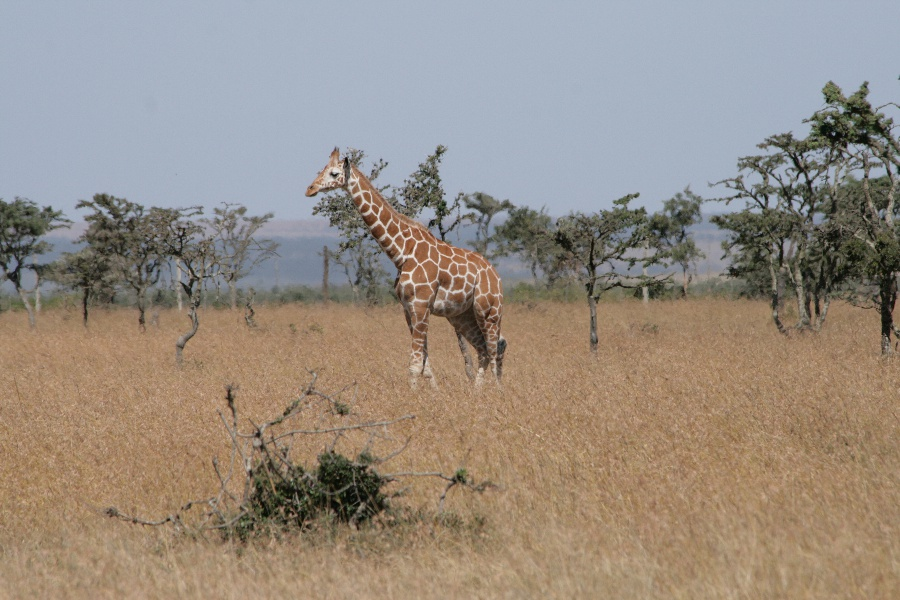giraffe: (301, 139, 517, 396)
